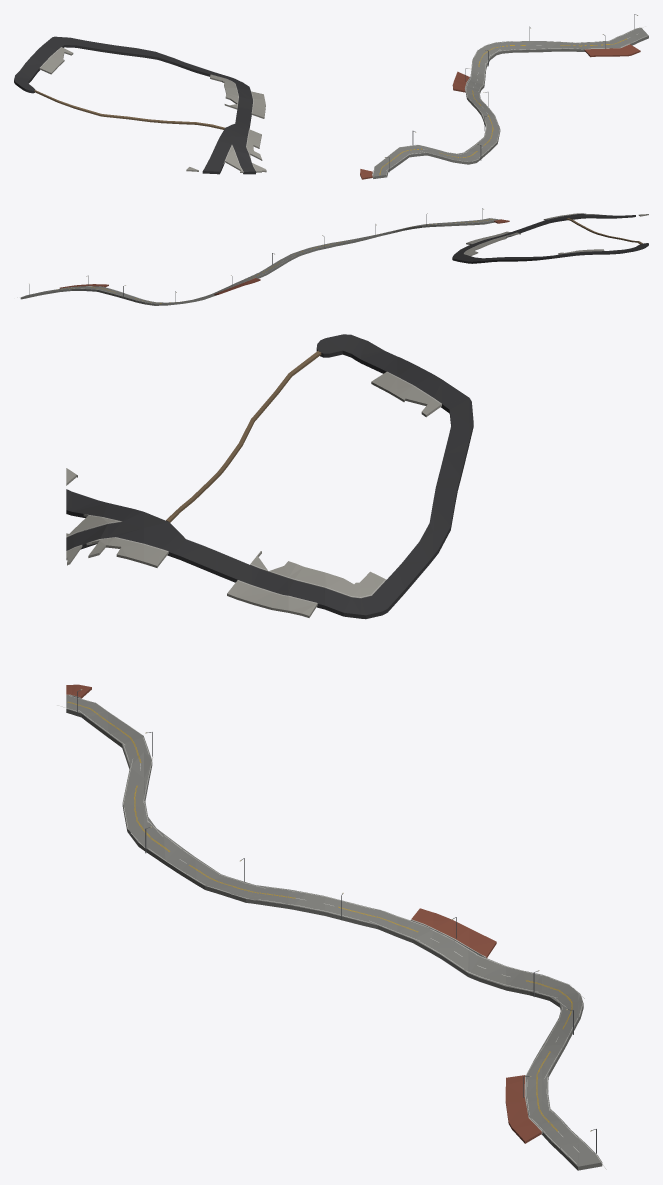
3 views of the same model, one above another, from view 1: azimuth 30°, elevation 25°; view 2: azimuth 150°, elevation 25°; view 3: azimuth 270°, elevation 25° (orthographic). The views are drawn at different scales.
Size of the model in its own units: 361 by 88.4 by 152.
